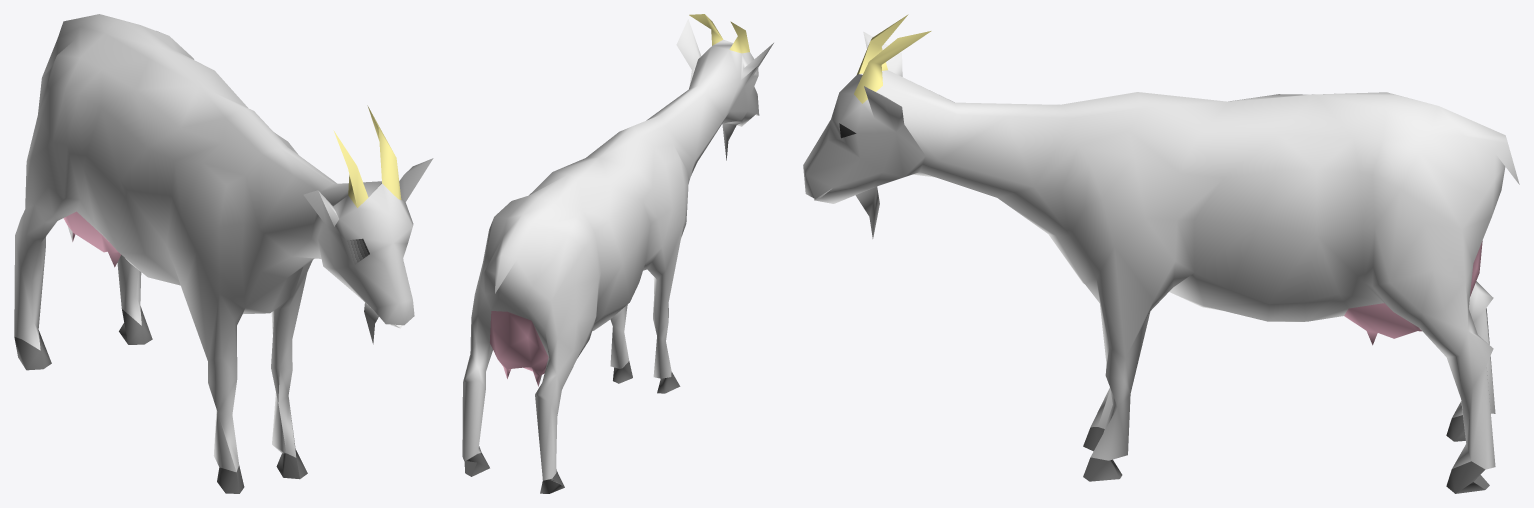
File: goat_001.glb
3 views of the same model, side by side, from view 1: azimuth 30°, elevation 25°; view 2: azimuth 150°, elevation 25°; view 3: azimuth 270°, elevation 25° (orthographic). The views are drawn at different scales.
Visible parts, largest first — view 1: goat_001; view 2: goat_001; view 3: goat_001.
Boxes of the visible parts, x1,y1,x2,y2 form: goat_001: (14, 14, 433, 493); goat_001: (462, 14, 773, 493); goat_001: (803, 14, 1519, 493).
Bounding box in the file's own units: 0.3776 × 1.05 × 1.54.
Materials: 1 (1 with a texture image).
